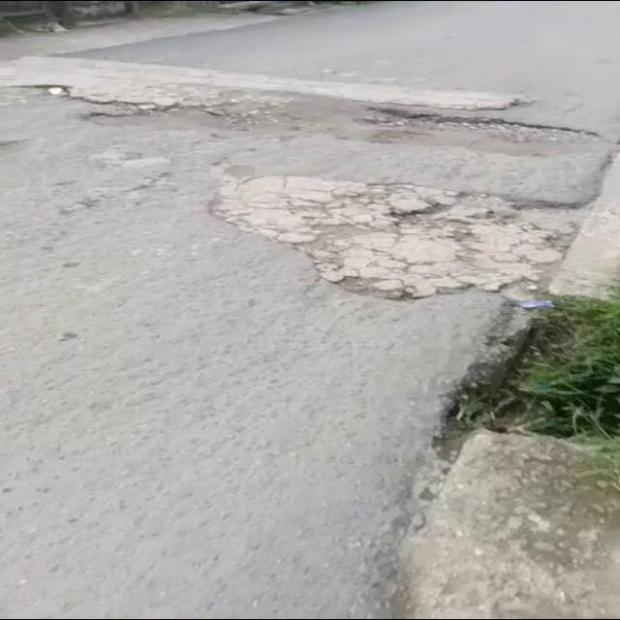lubang: (0, 56, 611, 183), (214, 176, 573, 297)
